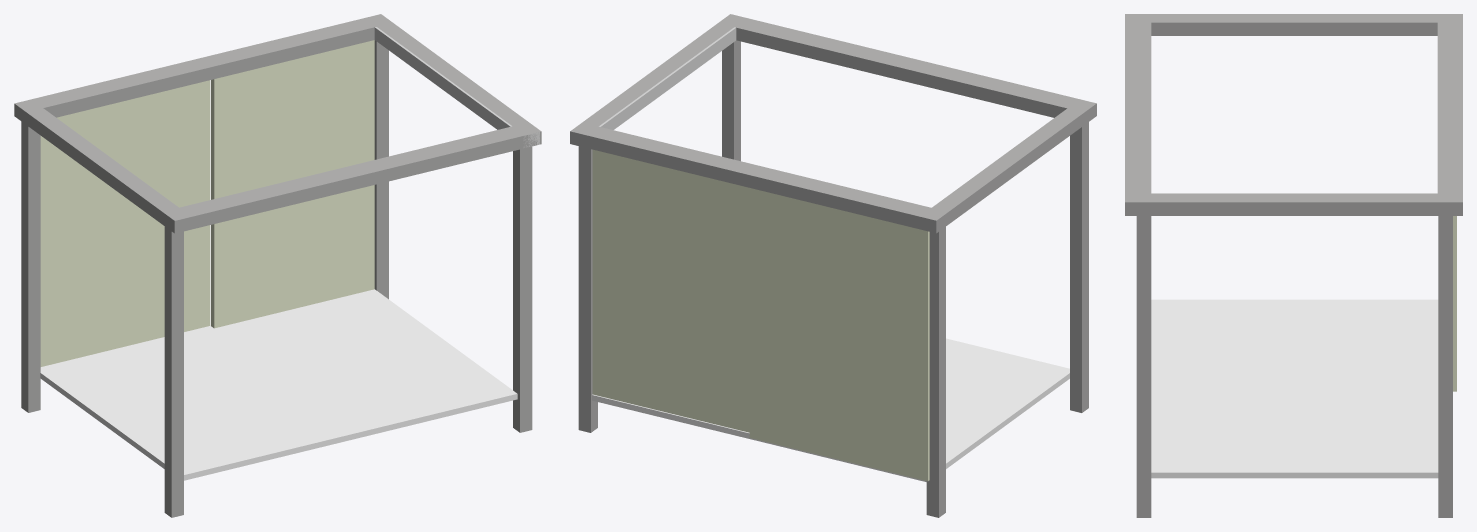
File: glass_table.fbx
The picture shows the model from 3 angles, left to right: view 1: azimuth 30°, elevation 25°; view 2: azimuth 150°, elevation 25°; view 3: azimuth 270°, elevation 25°; orthographic projection. The views are drawn at different scales.
Visible parts, largest first — view 1: Bottom, Bottom.001, Bottom.002, top.001, Front.L, Back.L, Front.R, Back.R, Cube.005; view 2: Bottom.002, Bottom.001, top.001, Bottom, Front.L, Back.L, Back.R, Front.R, Cube.005; view 3: Bottom, top.001, Front.R, Back.R, Bottom.002.
Part boxes in pixels (left/top/right/bottom): Bottom: left=40, top=289, right=517, bottom=480; Bottom.001: left=211, top=40, right=374, bottom=328; Bottom.002: left=40, top=80, right=210, bottom=366; top.001: left=14, top=14, right=541, bottom=233; Front.L: left=164, top=226, right=183, bottom=517; Back.L: left=21, top=121, right=40, bottom=412; Front.R: left=513, top=146, right=532, bottom=432; Back.R: left=374, top=40, right=388, bottom=299; Cube.005: left=374, top=27, right=539, bottom=147; Bottom.002: left=749, top=188, right=929, bottom=481; Bottom.001: left=592, top=149, right=749, bottom=432; top.001: left=570, top=14, right=1096, bottom=233; Bottom: left=592, top=338, right=1069, bottom=481; Front.L: left=1070, top=122, right=1088, bottom=412; Back.L: left=926, top=227, right=945, bottom=517; Back.R: left=578, top=146, right=597, bottom=432; Front.R: left=722, top=40, right=740, bottom=161; Cube.005: left=599, top=27, right=736, bottom=129; Bottom: left=1151, top=299, right=1438, bottom=478; top.001: left=1125, top=14, right=1462, bottom=215; Front.R: left=1136, top=216, right=1151, bottom=517; Back.R: left=1438, top=216, right=1452, bottom=517; Bottom.002: left=1453, top=216, right=1456, bottom=391.
Bounding box in the file's own units: 1472 × 1157 × 1116.
